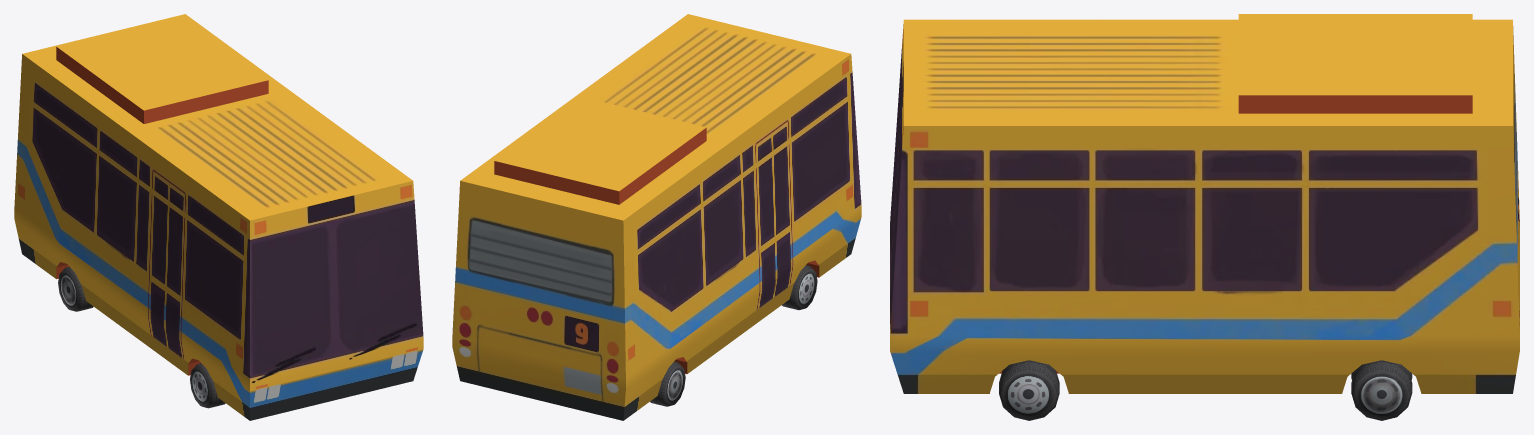
The model's file is bus.glb.
3 views of the same model, side by side, from view 1: azimuth 30°, elevation 25°; view 2: azimuth 150°, elevation 25°; view 3: azimuth 270°, elevation 25° (orthographic). The views are drawn at different scales.
Parts seen in each view (by area): view 1: bus, wheel_2, wheel_5; view 2: bus, wheel_5, wheel_2; view 3: bus, wheel_4, wheel_6.
Part boxes in pixels (bbox=[...]): bus: bbox=[14, 14, 423, 420]; wheel_2: bbox=[58, 267, 93, 311]; wheel_5: bbox=[190, 363, 225, 408]; bus: bbox=[452, 14, 861, 420]; wheel_5: bbox=[782, 265, 817, 310]; wheel_2: bbox=[650, 361, 685, 406]; bus: bbox=[890, 14, 1519, 393]; wheel_4: bbox=[1351, 360, 1412, 420]; wheel_6: bbox=[999, 360, 1059, 420].
Bounding box in the file's own units: 2.53 × 3.27 × 5.96.
1 material, 1 textured.
